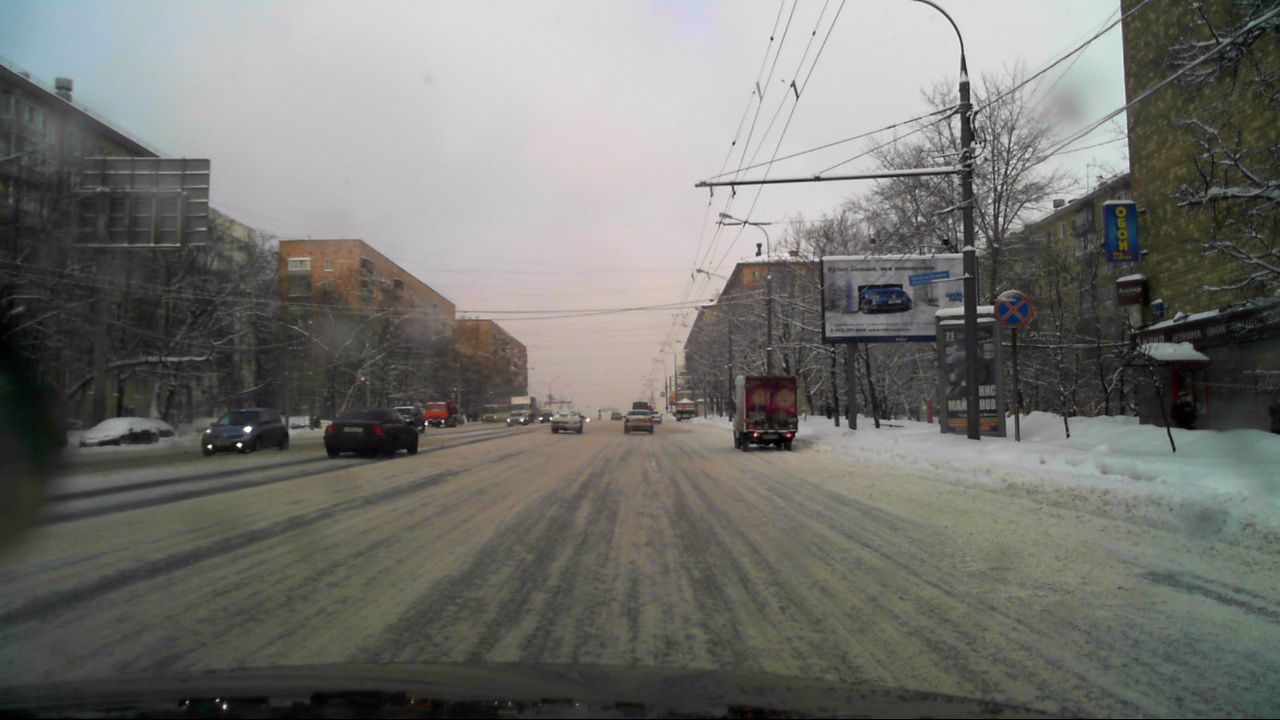No Parking: (994, 289, 1032, 328)
